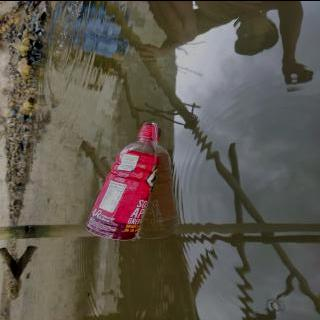bottle: (79, 120, 164, 243)
